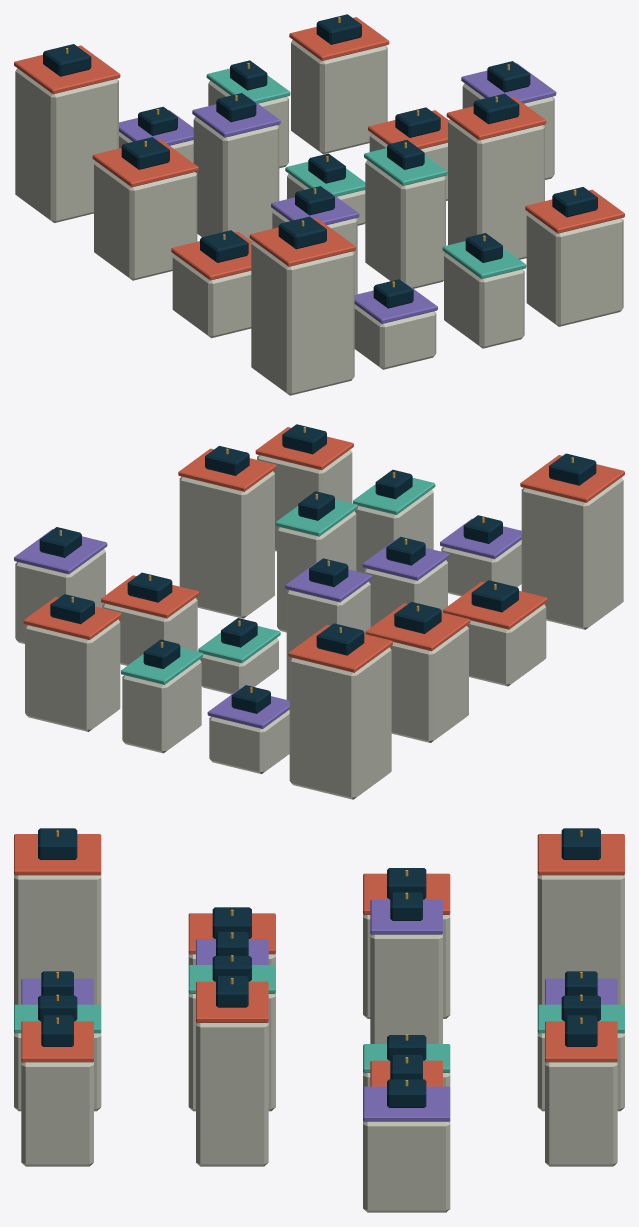
The model's file is runway-city.glb.
The picture shows the model from 3 angles, top to bottom: view 1: azimuth 30°, elevation 25°; view 2: azimuth 150°, elevation 25°; view 3: azimuth 270°, elevation 25°; orthographic projection. The views are drawn at different scales.
Parts seen in each view (by area): view 1: runway-city; view 2: runway-city; view 3: runway-city.
Boxes of the visible parts, x1=… form: runway-city: x1=14, y1=14, x2=624, y2=395; runway-city: x1=14, y1=424, x2=624, y2=799; runway-city: x1=14, y1=828, x2=624, y2=1212.
Size of the model in its own units: 37.5 by 13 by 42.
